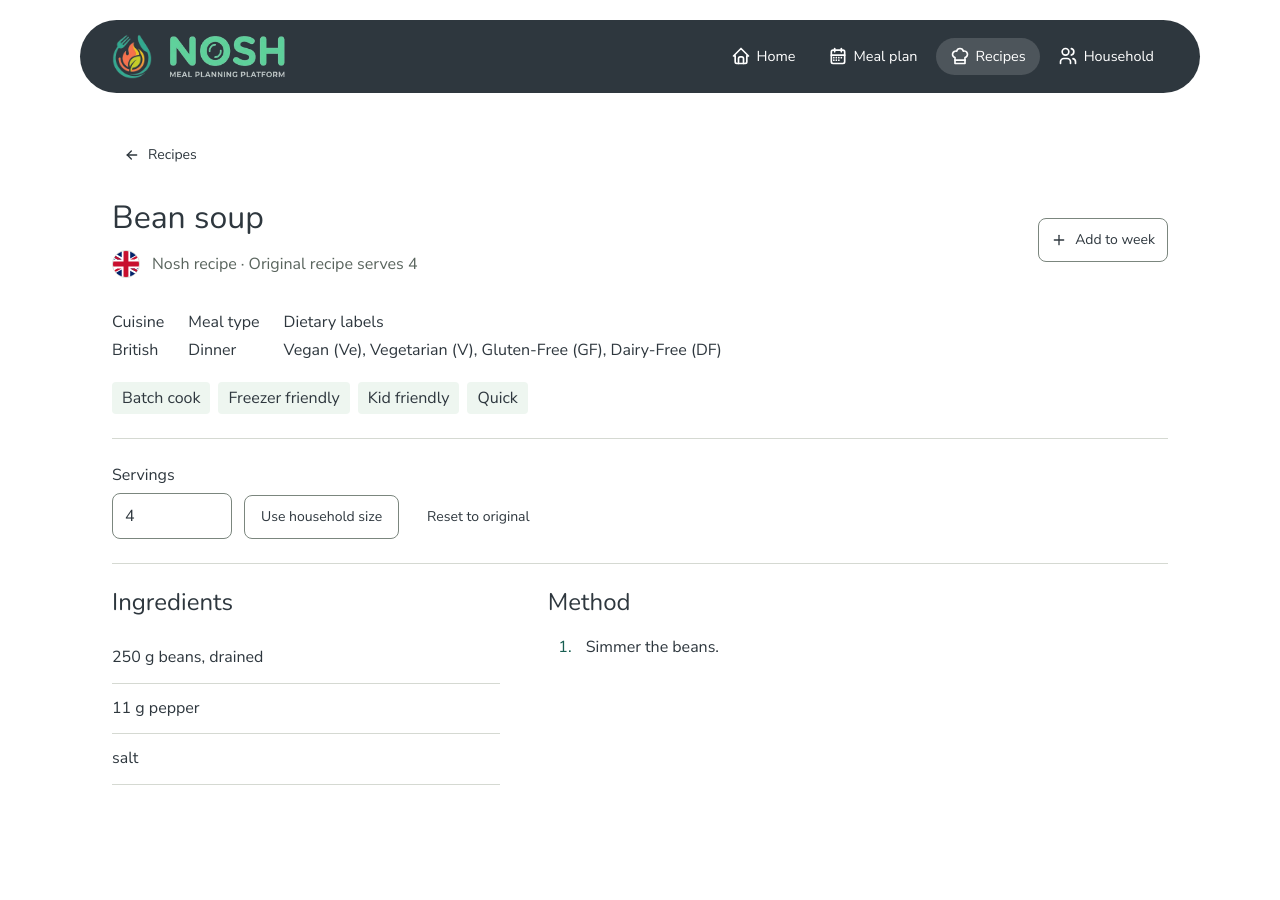
scales to household and arbitrary servings, preserves null quantities, and resets
Expected: the heading "Bean soup" is shown, [112,196,264,239]
Expected: the text "Vegan (Ve), Vegetarian (V), Gluten-Free (GF), Dairy-Free (DF)" is shown, [284,338,722,362]
Click the button "Use household size": click(322, 517) [244,495,399,539]
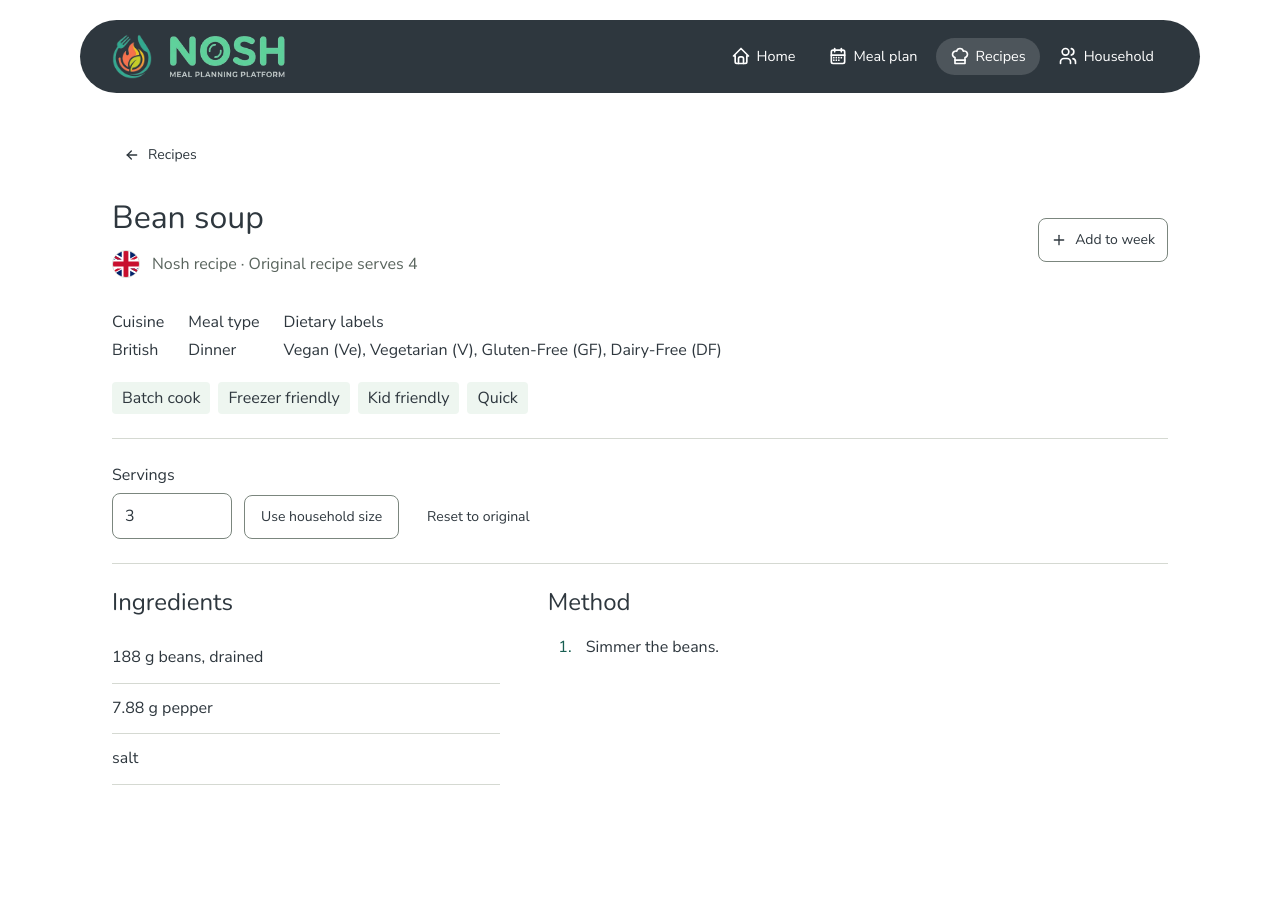
Now the number field labelled "Servings" holds "3"
Now the text "188 g beans, drained" is shown, box [112,646,263,668]
Replace the text in the number field labelled "Servings" with "1": (172, 516) [112,493,232,539]
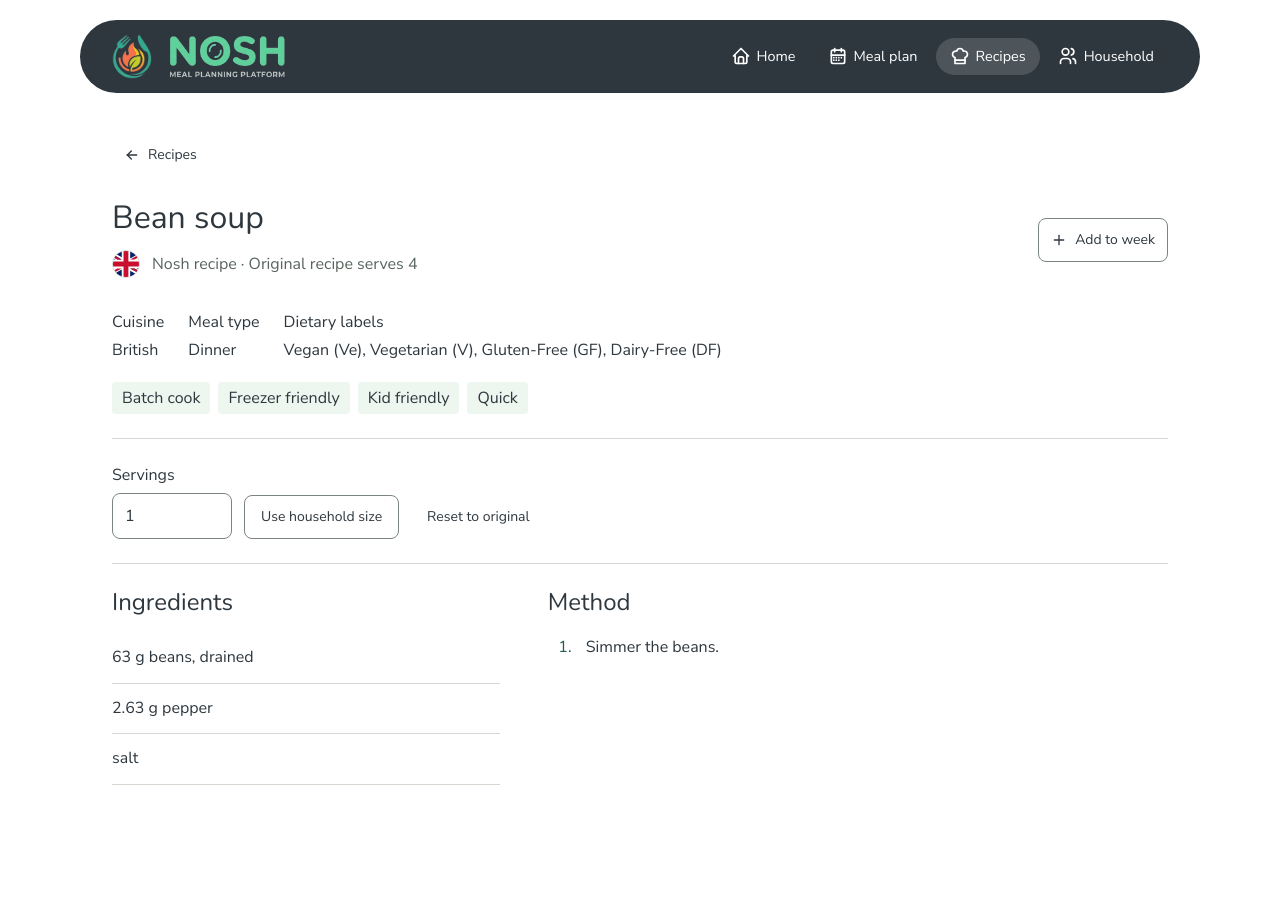
Expected: the text "salt" is shown, [112,747,138,769]
Now the text "63 g beans, drained" is shown, box [112,646,254,668]
Now the text "2.63 g pepper" is shown, box [112,697,213,719]
Click the button "Reset to original": click(478, 517) [411,495,546,539]
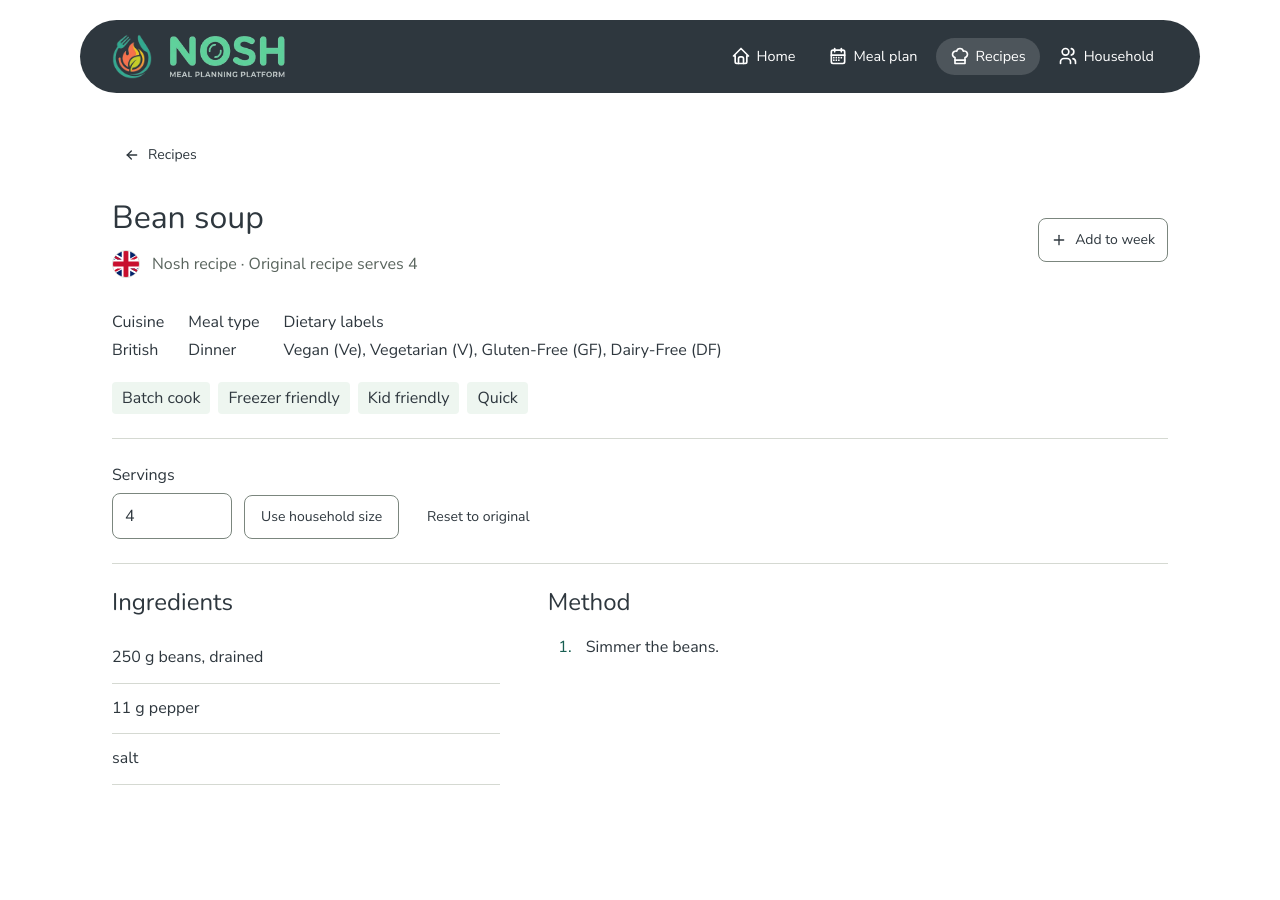
Now the text "250 g beans, drained" is shown, box [112,646,263,668]
